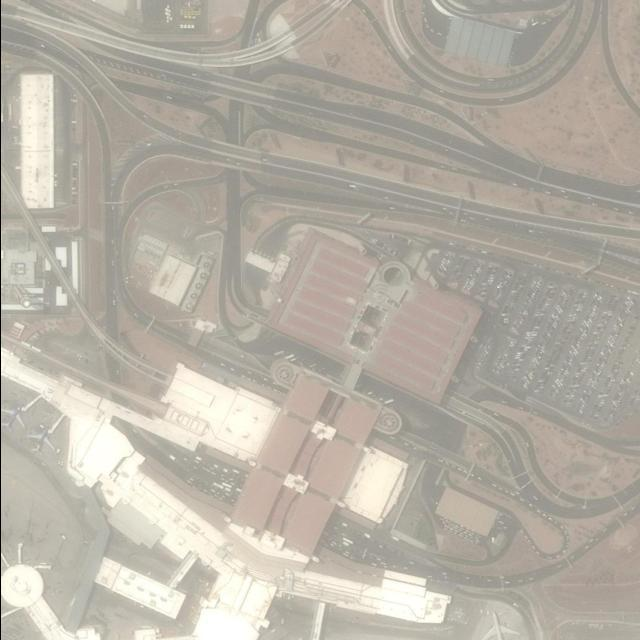Aircraft: (477, 612, 519, 640), (27, 427, 55, 459), (1, 404, 27, 434)
